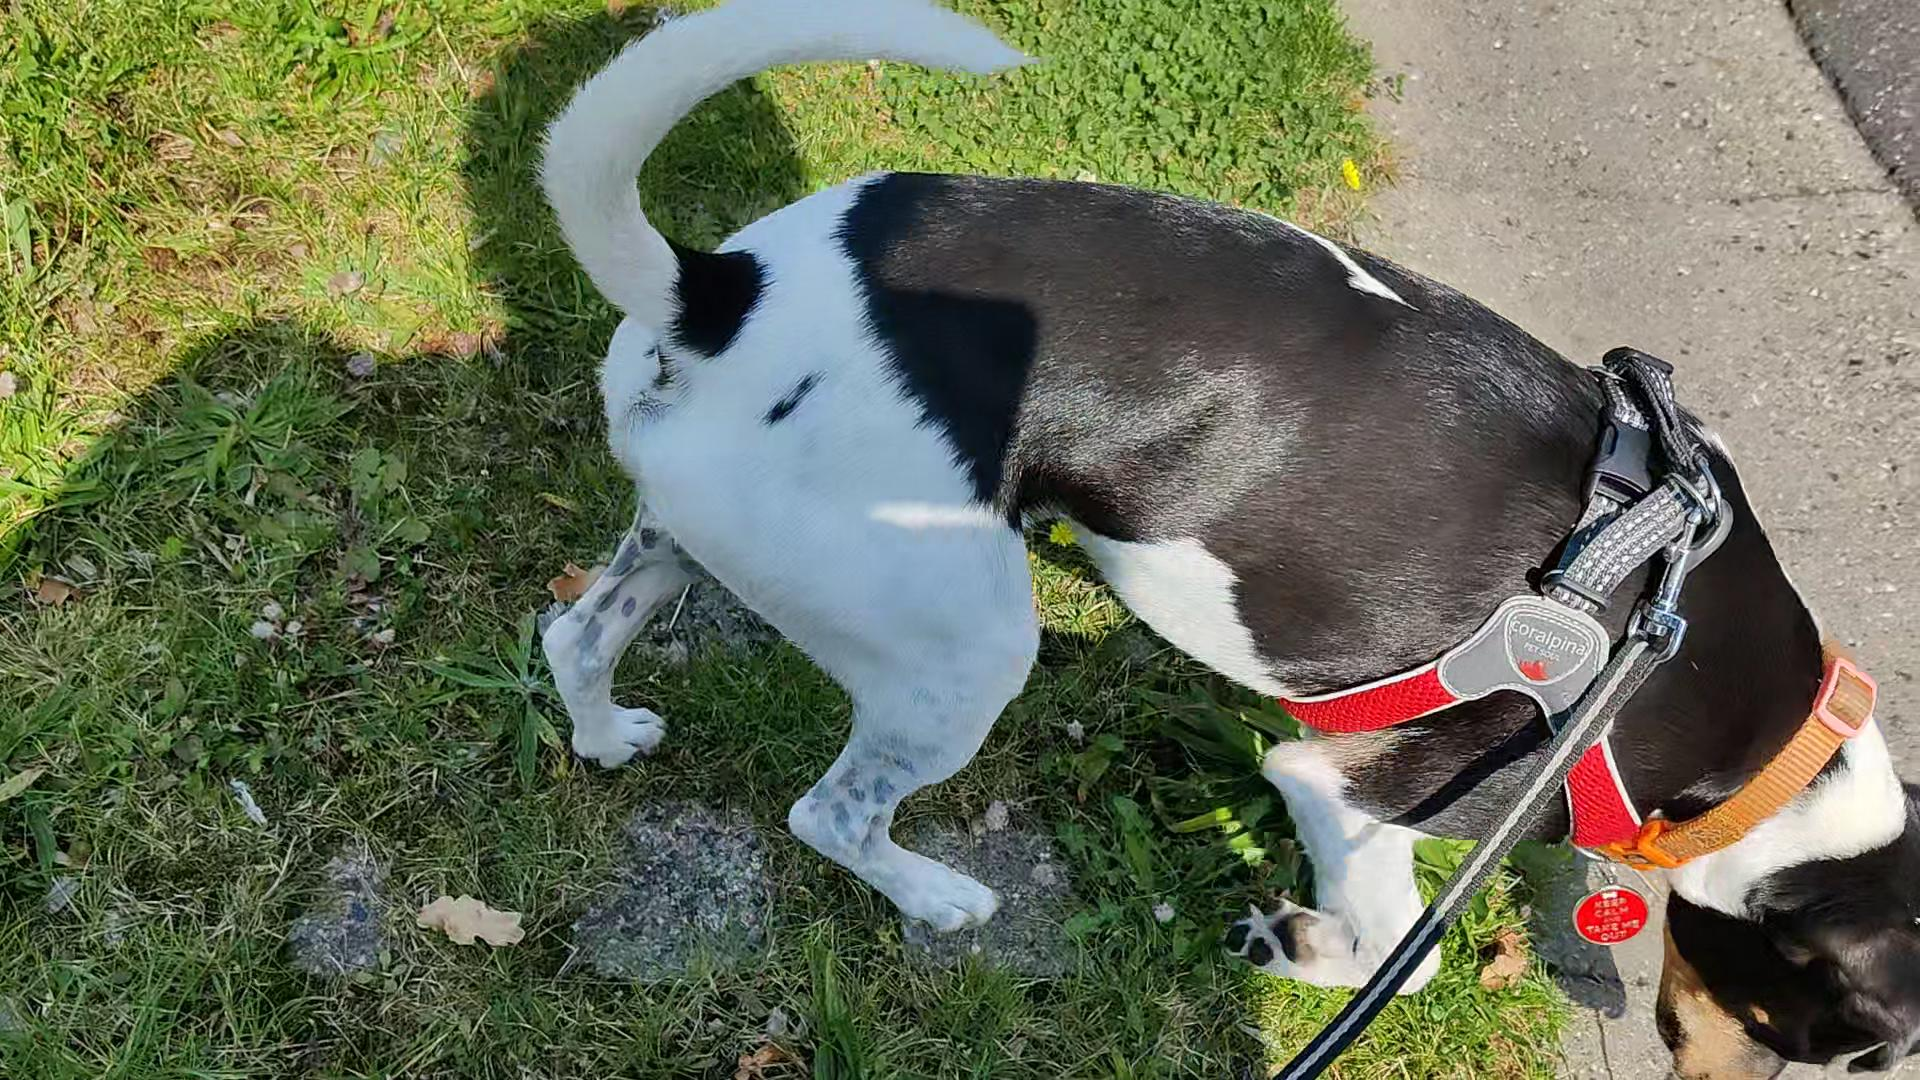Dog: (529, 0, 1919, 1079)
